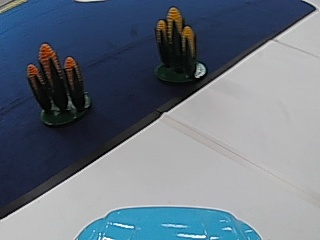corn: (26, 41, 91, 125), (153, 5, 204, 82)
